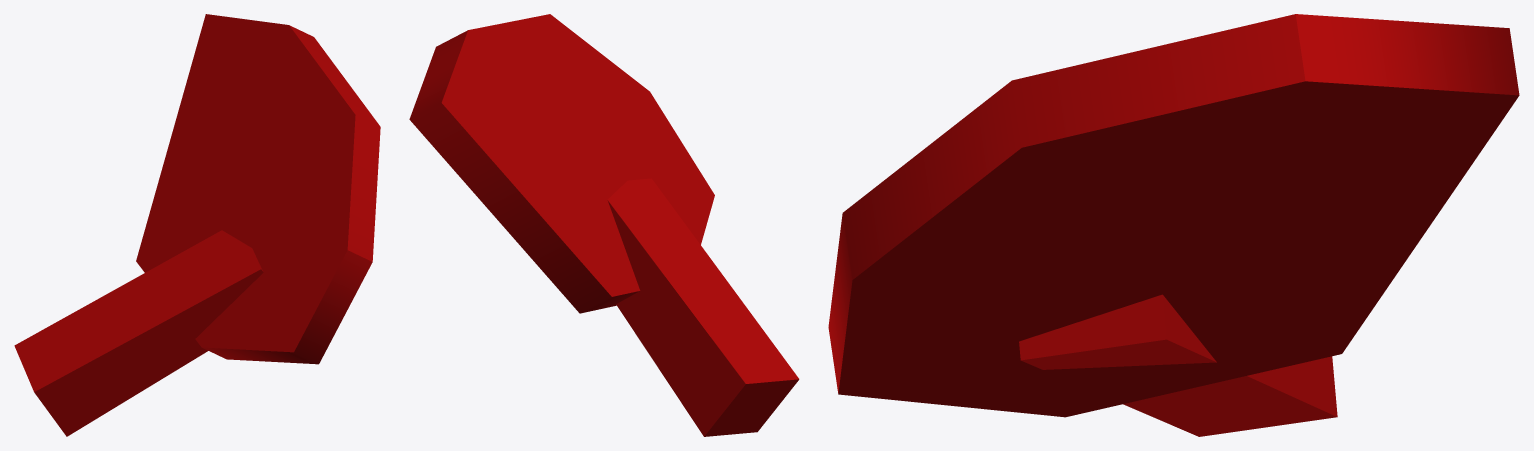
The model's file is SM_Prop_Whale_Skeleton_01_Fin_01_Collision.glb.
3 views of the same model, side by side, from view 1: azimuth 30°, elevation 25°; view 2: azimuth 150°, elevation 25°; view 3: azimuth 270°, elevation 25° (orthographic). The views are drawn at different scales.
Parts seen in each view (by area): view 1: SM_Prop_Whale_Skeleton_01_Fin_01_Collision; view 2: SM_Prop_Whale_Skeleton_01_Fin_01_Collision; view 3: SM_Prop_Whale_Skeleton_01_Fin_01_Collision.
Part boxes in pixels (x1,y1,x2,y2): SM_Prop_Whale_Skeleton_01_Fin_01_Collision: (14,14,380,436); SM_Prop_Whale_Skeleton_01_Fin_01_Collision: (409,14,799,436); SM_Prop_Whale_Skeleton_01_Fin_01_Collision: (828,14,1519,436).
Bounding box in the file's own units: 2.53 × 2.6 × 2.47.
